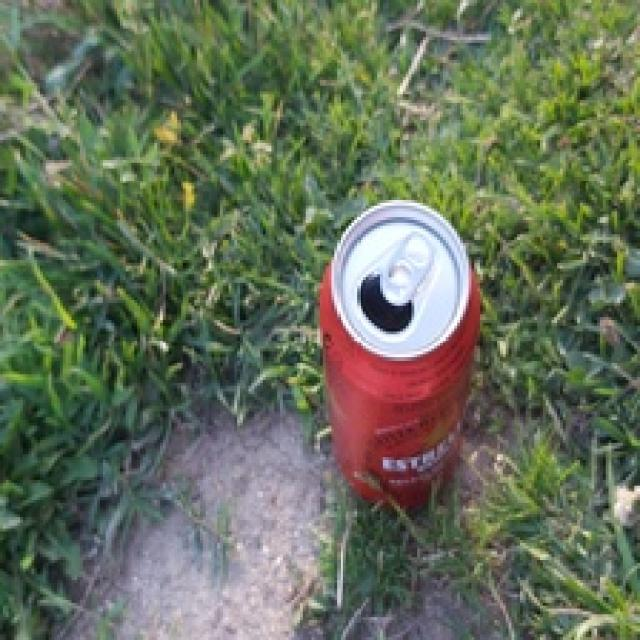recyclable: (317, 198, 484, 508)
